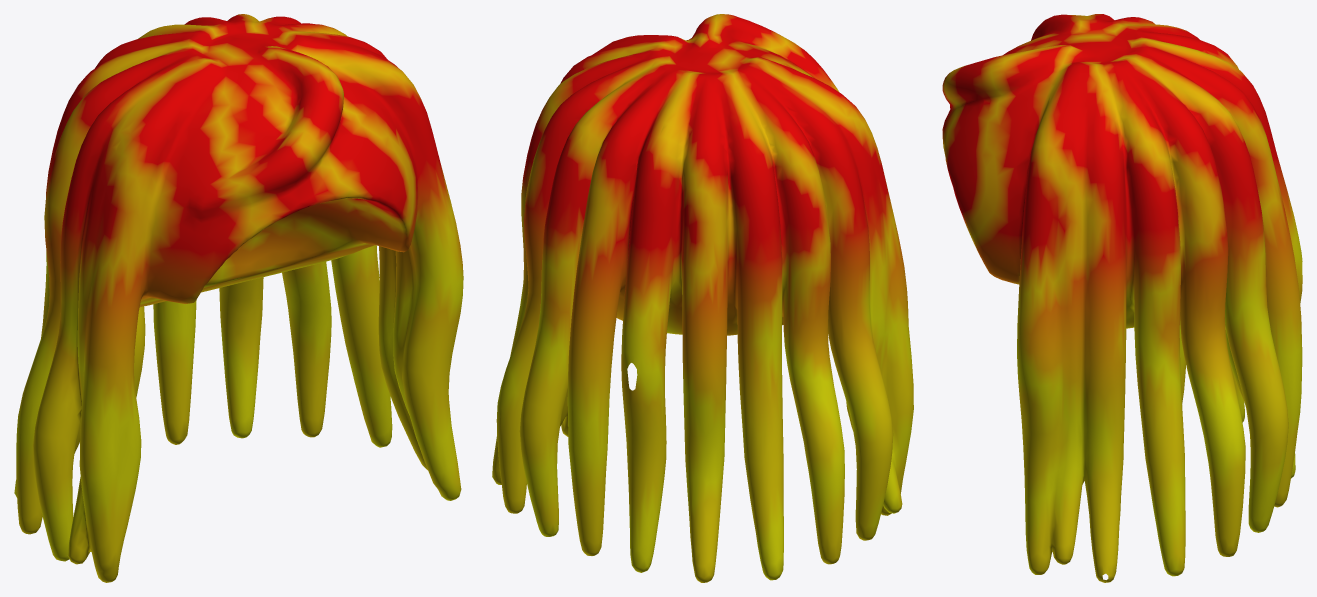
The model's file is long-wavy.glb.
3 views of the same model, side by side, from view 1: azimuth 30°, elevation 25°; view 2: azimuth 150°, elevation 25°; view 3: azimuth 270°, elevation 25° (orthographic). The views are drawn at different scales.
Parts seen in each view (by area): view 1: part; view 2: part; view 3: part.
Part boxes in pixels (box(x1,y1,x2,y2)): part: box(14, 14, 463, 582); part: box(492, 14, 913, 582); part: box(942, 14, 1302, 582).
Bounding box in the file's own units: 2.98 × 3.39 × 2.43.
